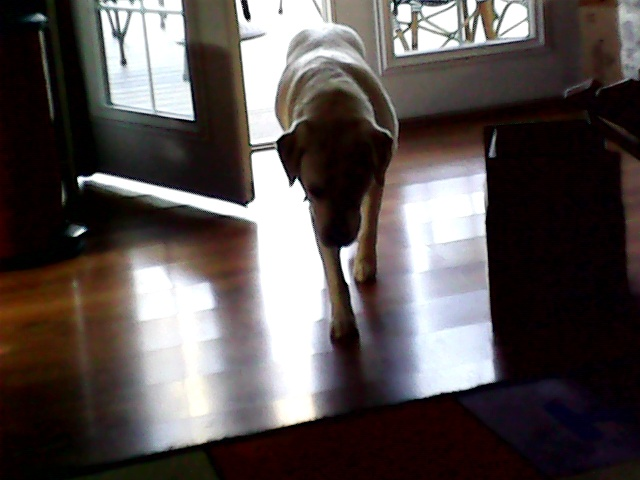dog: (266, 20, 403, 348)
